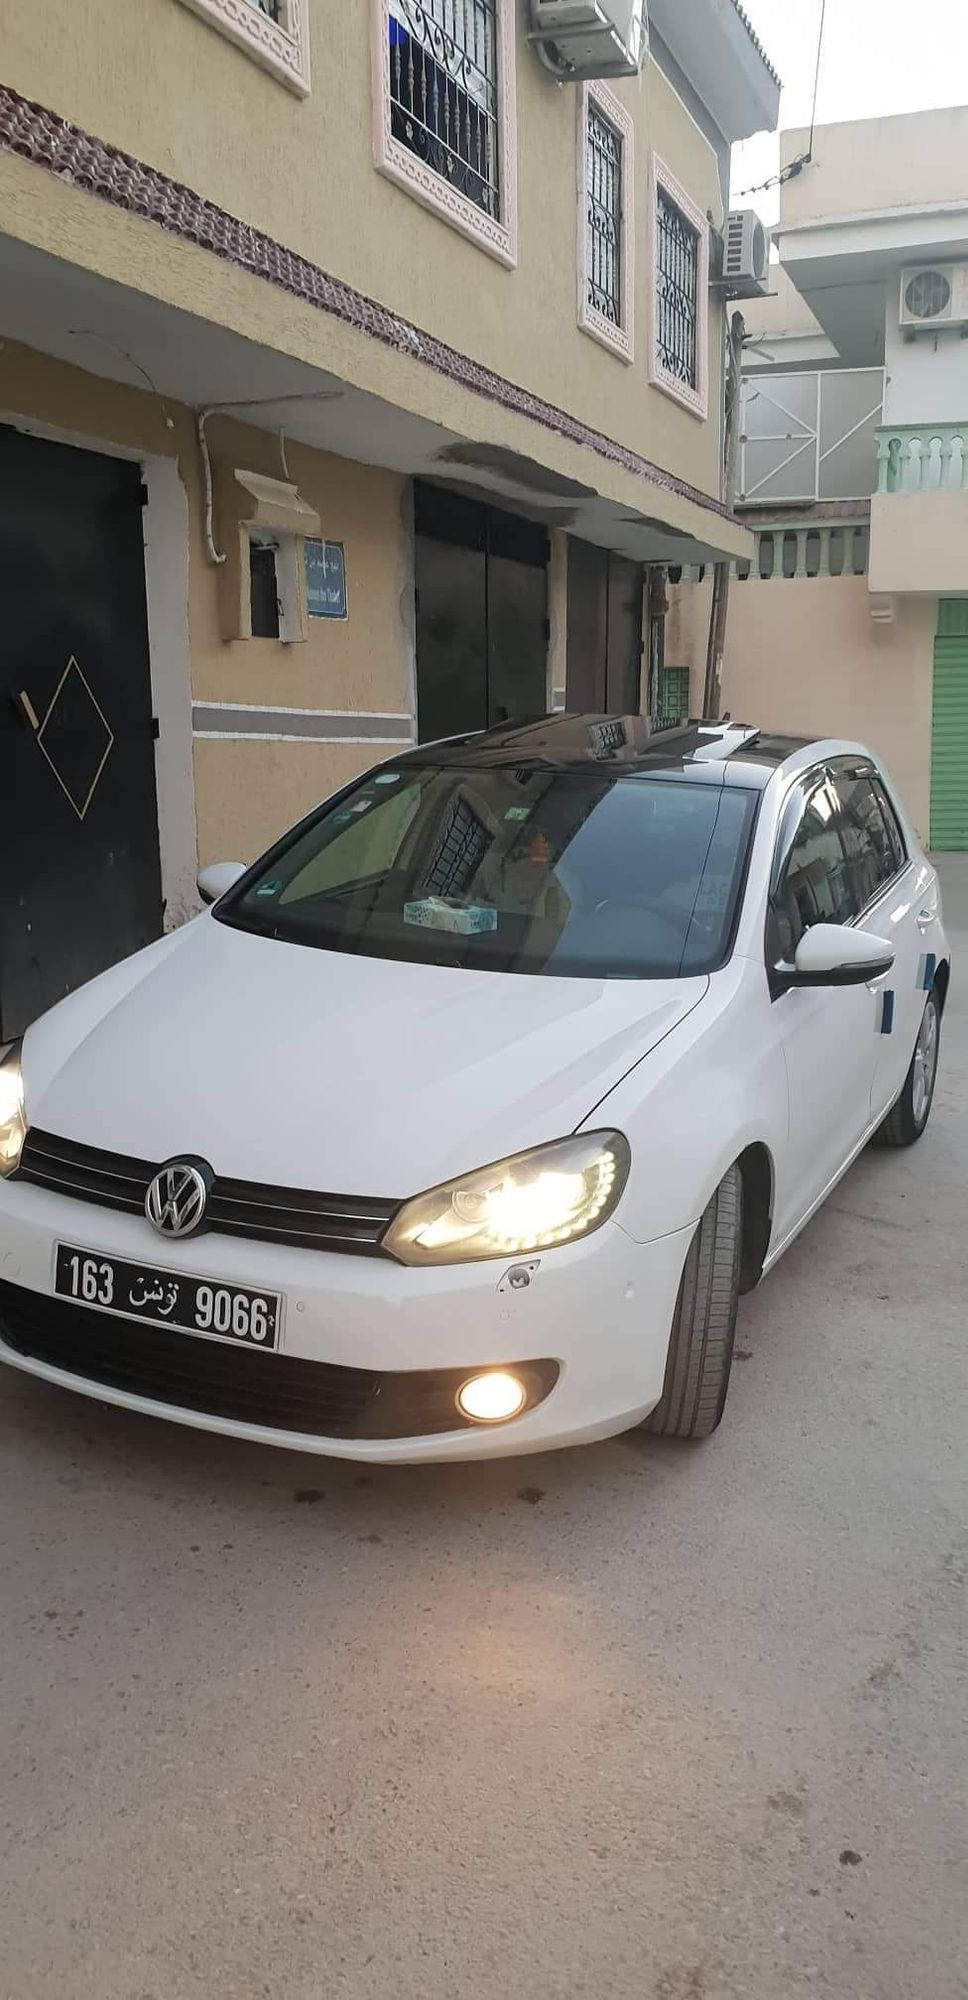LP: (46, 1238, 287, 1363)
